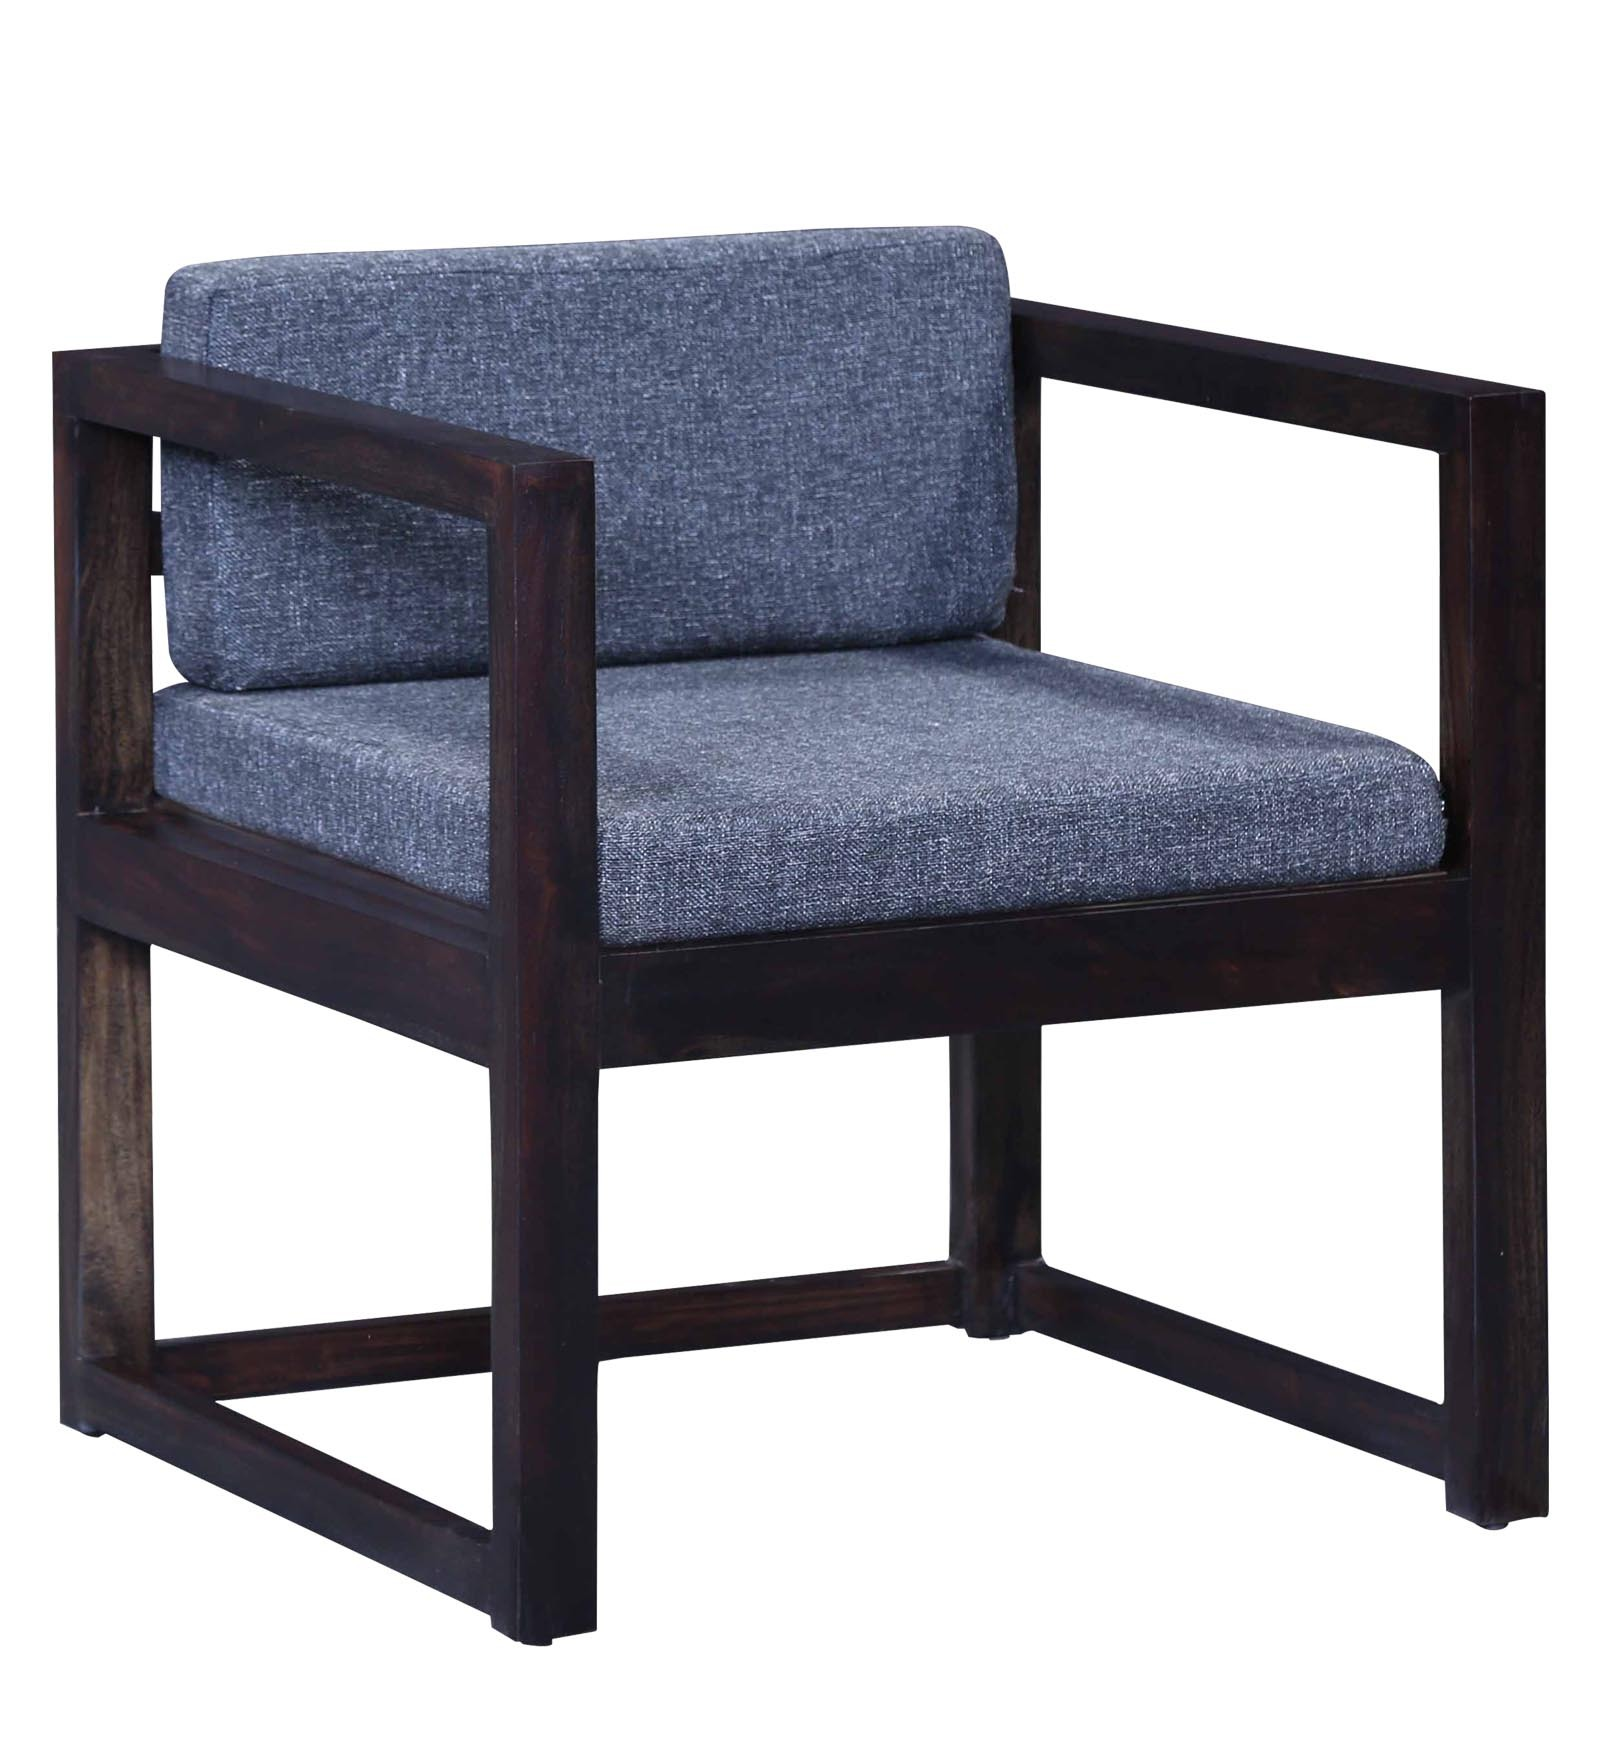Avian Arm Chair in Warm Chestnut Finish by Woodsworth: (34, 182, 1600, 1676)
